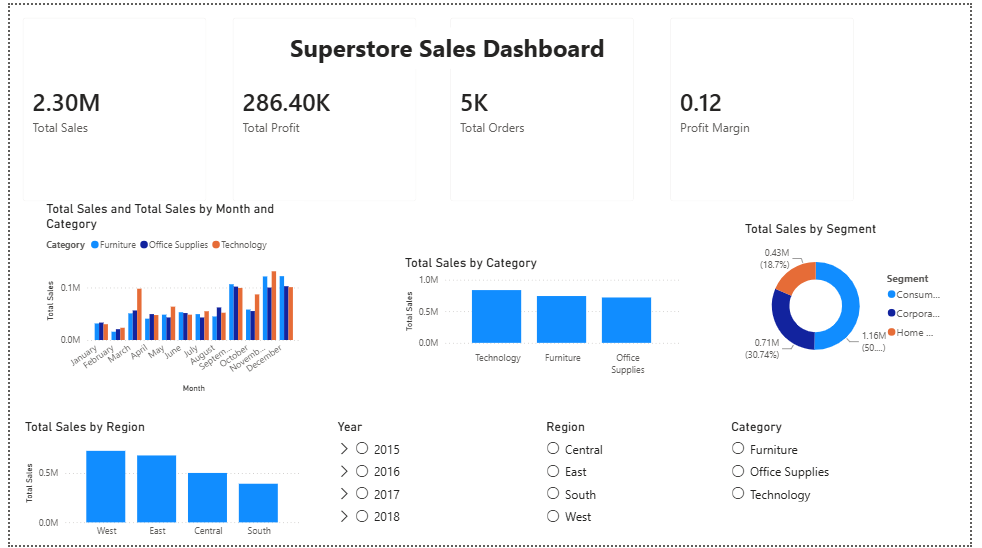

What the dashboard file says about the page in this screenshot:
{"tool":"powerbi","page":{"name":"Page 1","canvas":[1280,720],"ordinal":0},"visuals":[{"type":"cardVisual","fields":{"Data":["Superstore.Total Sales"]},"box":[0,0,279.9,279.9],"z":0},{"type":"cardVisual","fields":{"Data":["Superstore.Total Profit"]},"box":[279.9,0,279.9,279.9],"z":1000},{"type":"cardVisual","fields":{"Data":["Superstore.Total Orders"]},"box":[569.5,0,279.9,279.9],"z":2000},{"type":"cardVisual","fields":{"Data":["Superstore.Profit Margin"]},"box":[863.1,0,279.9,279.9],"z":3000},{"type":"clusteredColumnChart","fields":{"Category":["Superstore.Order Date.Variation.Date Hierarchy.Year","Superstore.Order Date.Variation.Date Hierarchy.Quarter","Superstore.Order Date.Variation.Date Hierarchy.Month","Superstore.Order Date.Variation.Date Hierarchy.Day"],"Y":["Superstore.Total Sales"],"Series":["Superstore.Category"]},"box":[43.3,261.7,348.3,260],"z":4000},{"type":"clusteredColumnChart","fields":{"Category":["Superstore.Category"],"Y":["Superstore.Total Sales"]},"box":[521.7,333.3,376.7,168.3],"z":5000},{"type":"donutChart","fields":{"Category":["Superstore.Segment"],"Y":["Superstore.Total Sales"]},"box":[971.7,315,280,206.7],"z":6000},{"type":"clusteredColumnChart","fields":{"Category":["Superstore.Region"],"Y":["Superstore.Total Sales"]},"box":[15,551.7,376.7,168.3],"z":7000},{"type":"listSlicer","fields":{"Values":["Superstore.Order Date.Variation.Date Hierarchy.Year","Superstore.Order Date.Variation.Date Hierarchy.Quarter","Superstore.Order Date.Variation.Date Hierarchy.Month","Superstore.Order Date.Variation.Date Hierarchy.Day"]},"box":[420,551.7,256.7,148.3],"z":7001},{"type":"listSlicer","fields":{"Values":["Superstore.Region"]},"box":[677,552,222,150],"z":7002},{"type":"listSlicer","fields":{"Values":["Superstore.Category"]},"box":[898.3,551.7,280,150],"z":7003},{"type":"textbox","box":[368.3,30,453.3,55],"z":7004}]}

Visuals, with their boxes in screenshot pixels (x1, y1, x2, y2), scaled from the page's 1280x720 canvas onto the 982x548 screenshot:
cardVisual - Superstore.Total Sales: box=[0, 0, 215, 213]
cardVisual - Superstore.Total Profit: box=[215, 0, 429, 213]
cardVisual - Superstore.Total Orders: box=[437, 0, 652, 213]
cardVisual - Superstore.Profit Margin: box=[662, 0, 877, 213]
clusteredColumnChart - Superstore.Order Date.Variation.Date Hierarchy.Year x Superstore.Order Date.Variation.Date Hierarchy.Quarter: box=[33, 199, 300, 397]
clusteredColumnChart - Superstore.Category x Superstore.Total Sales: box=[400, 254, 689, 382]
donutChart - Superstore.Segment x Superstore.Total Sales: box=[745, 240, 960, 397]
clusteredColumnChart - Superstore.Region x Superstore.Total Sales: box=[12, 420, 301, 547]
listSlicer - Superstore.Order Date.Variation.Date Hierarchy.Year x Superstore.Order Date.Variation.Date Hierarchy.Quarter: box=[322, 420, 519, 533]
listSlicer - Superstore.Region: box=[519, 420, 690, 534]
listSlicer - Superstore.Category: box=[689, 420, 904, 534]
textbox: box=[283, 23, 630, 65]
